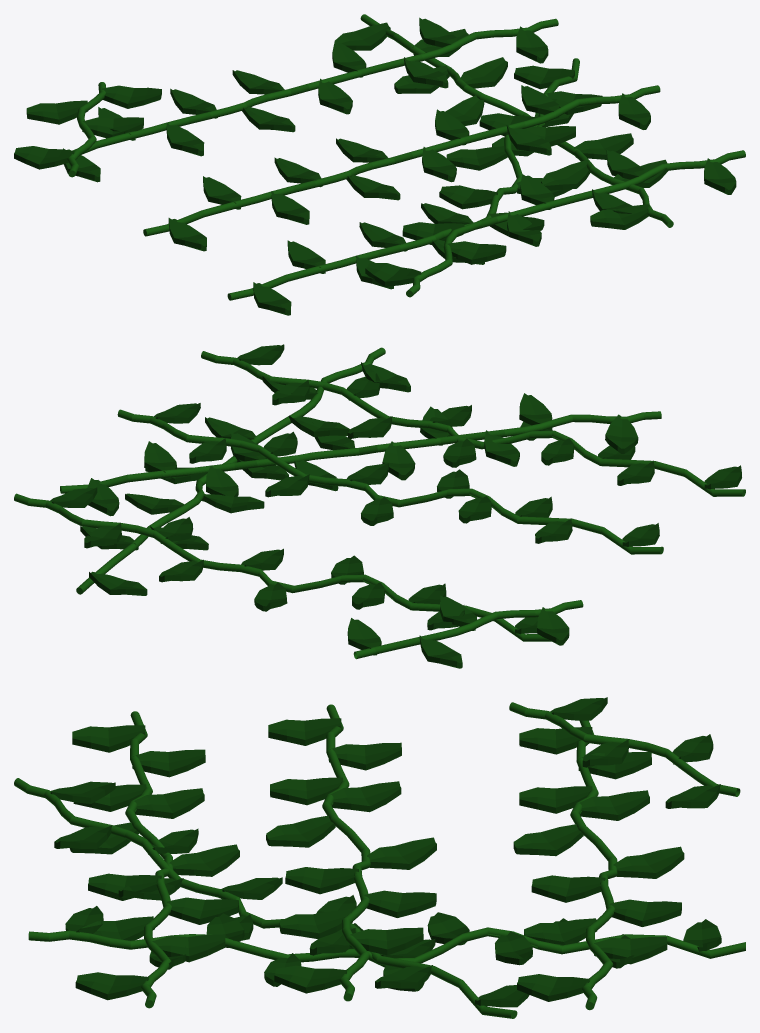
The model's file is Vines High.fbx.
3 renders of one model, top to bottom at view 1: azimuth 30°, elevation 25°; view 2: azimuth 150°, elevation 25°; view 3: azimuth 270°, elevation 25°, orthographic. The views are drawn at different scales.
Visible parts, largest first — view 1: VineLeaf.035; view 2: VineLeaf.035; view 3: VineLeaf.035.
Part boxes in pixels (<box>): VineLeaf.035: <box>14,14,745,315</box>; VineLeaf.035: <box>14,344,745,668</box>; VineLeaf.035: <box>14,697,745,1018</box>.
Size of the model in its own units: 1010 by 65.6 by 994.
